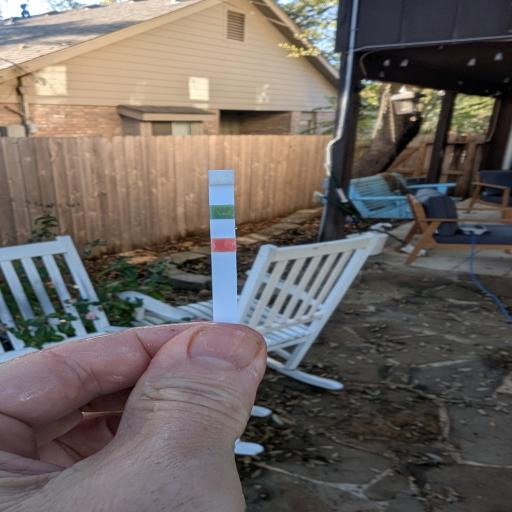strip: (209, 170, 239, 323)
